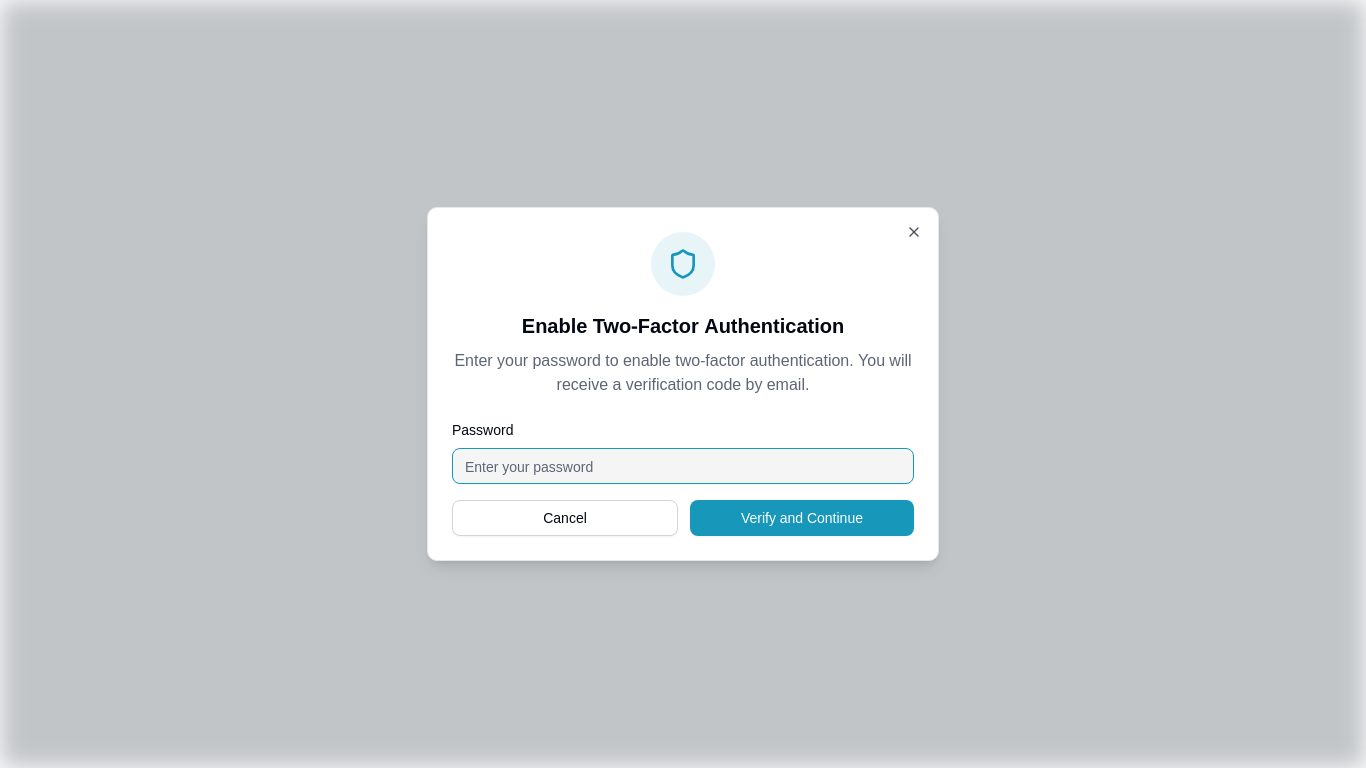
it: 2FA inside the profile form › keeps a failed password attempt in the modal and allows successful password + OTP retry
Type "wrong-password" into the password field with placeholder "Enter your password".
click(683, 466); type("wrong-password")  # box [452, 448, 914, 484]
Click the button "Verify and Continue".
click(802, 518)  # box [690, 500, 914, 536]
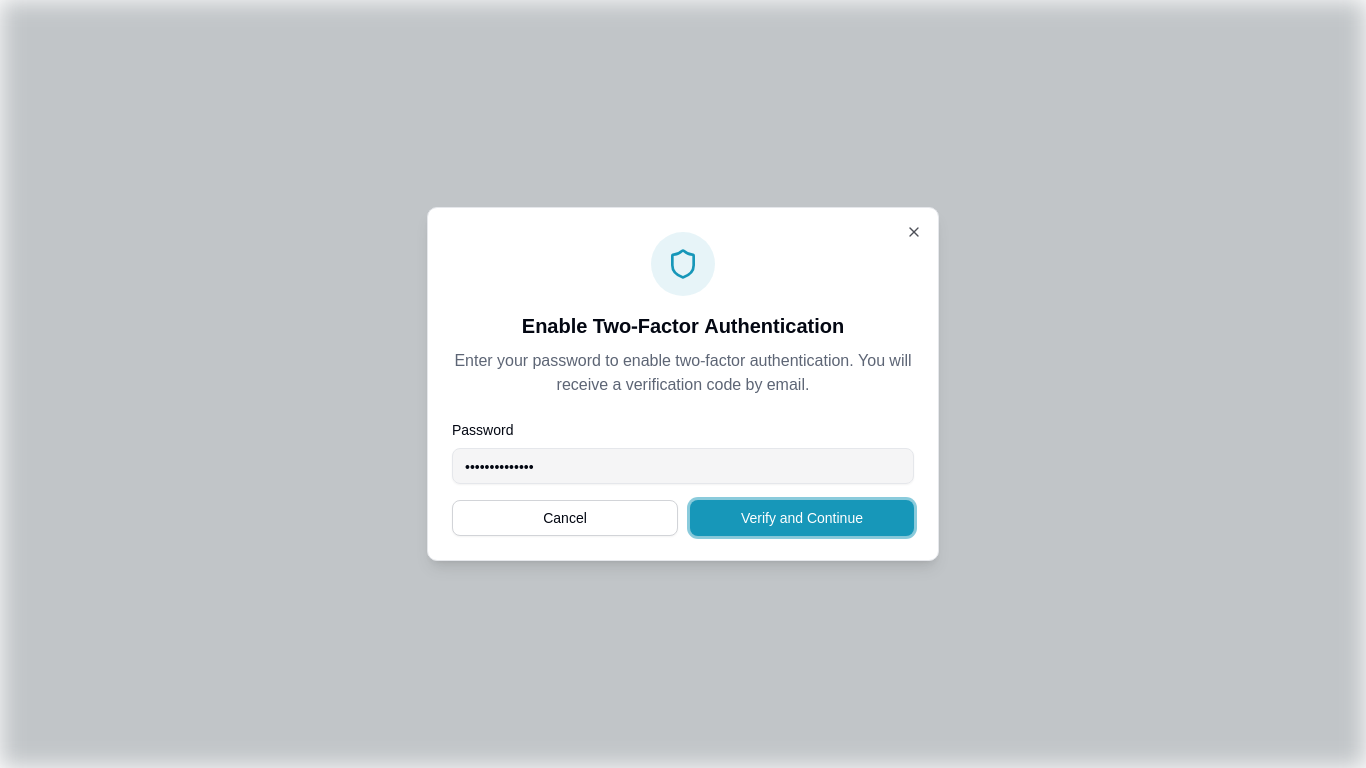
Clear the password field with placeholder "Enter your password" at (683, 466), box [452, 448, 914, 484]
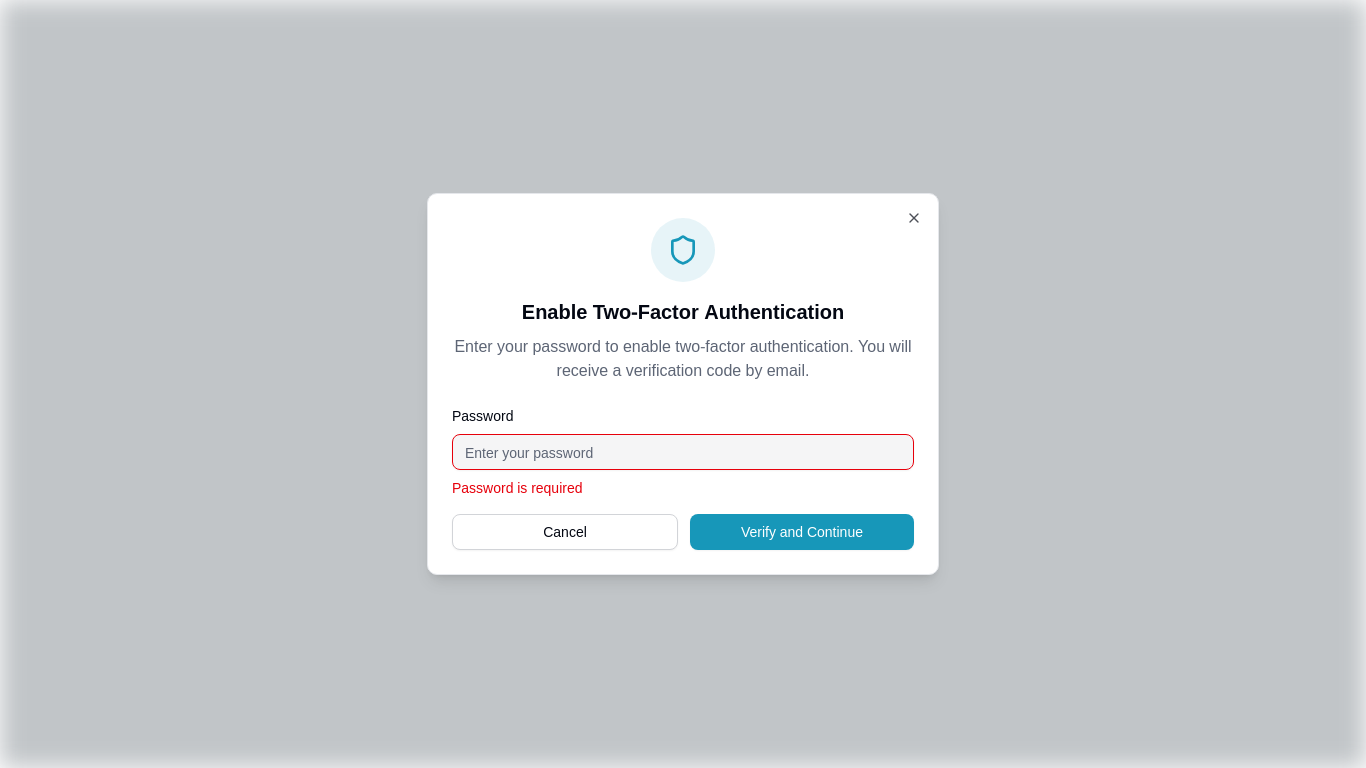
Type "correct-password" into the password field with placeholder "Enter your password".
click(683, 452); type("correct-password")  # box [452, 434, 914, 470]
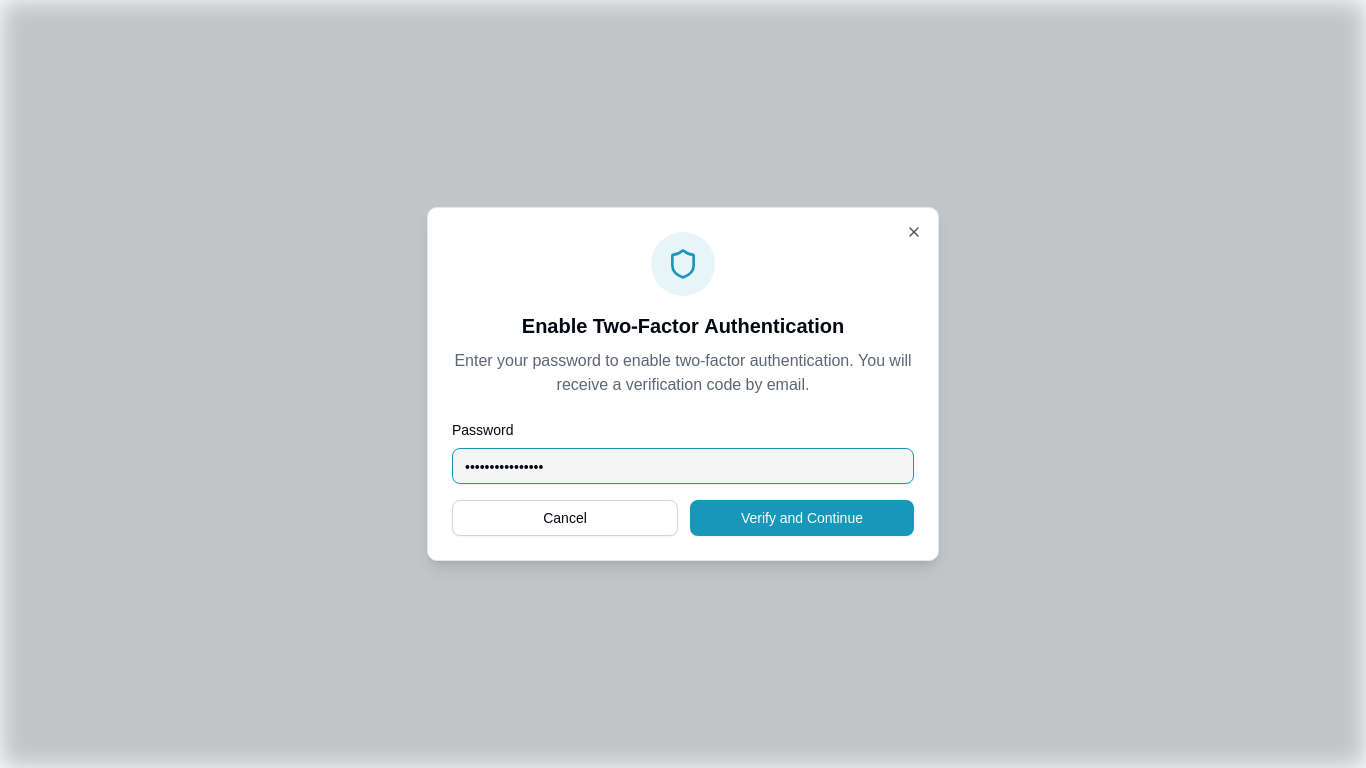
Click the button "Verify and Continue".
click(802, 518)  # box [690, 500, 914, 536]
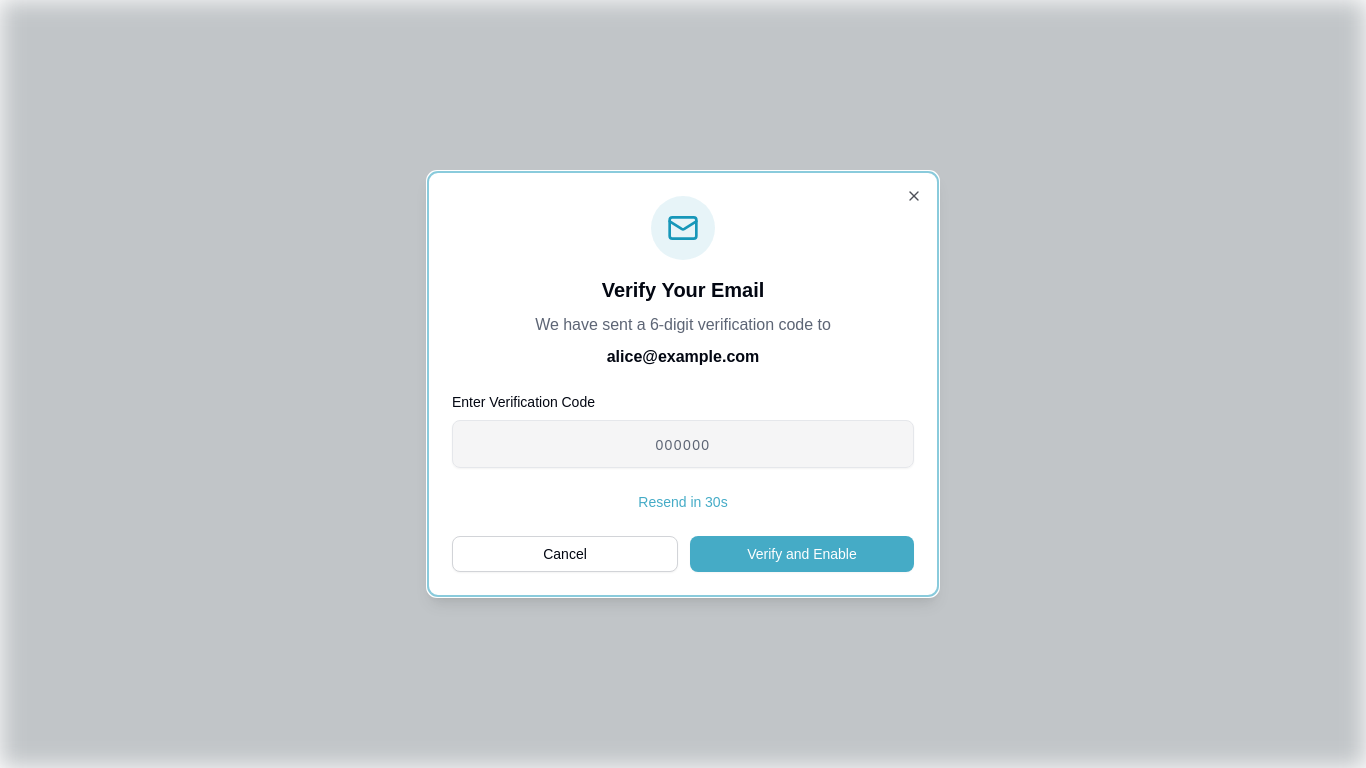
Type "123456" into the field with placeholder "000000".
click(683, 444); type("123456")  # box [452, 420, 914, 468]
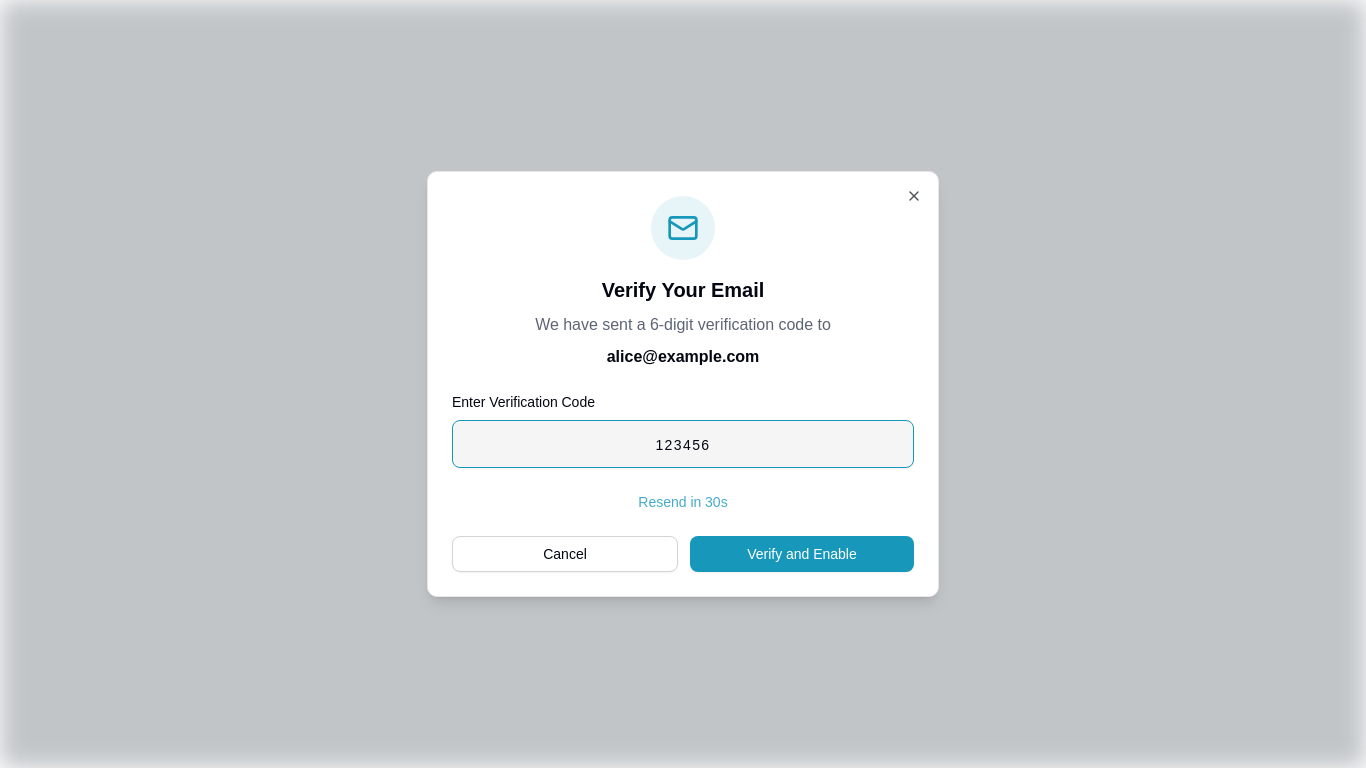
Click the button "Verify and Enable".
click(802, 554)  # box [690, 536, 914, 572]
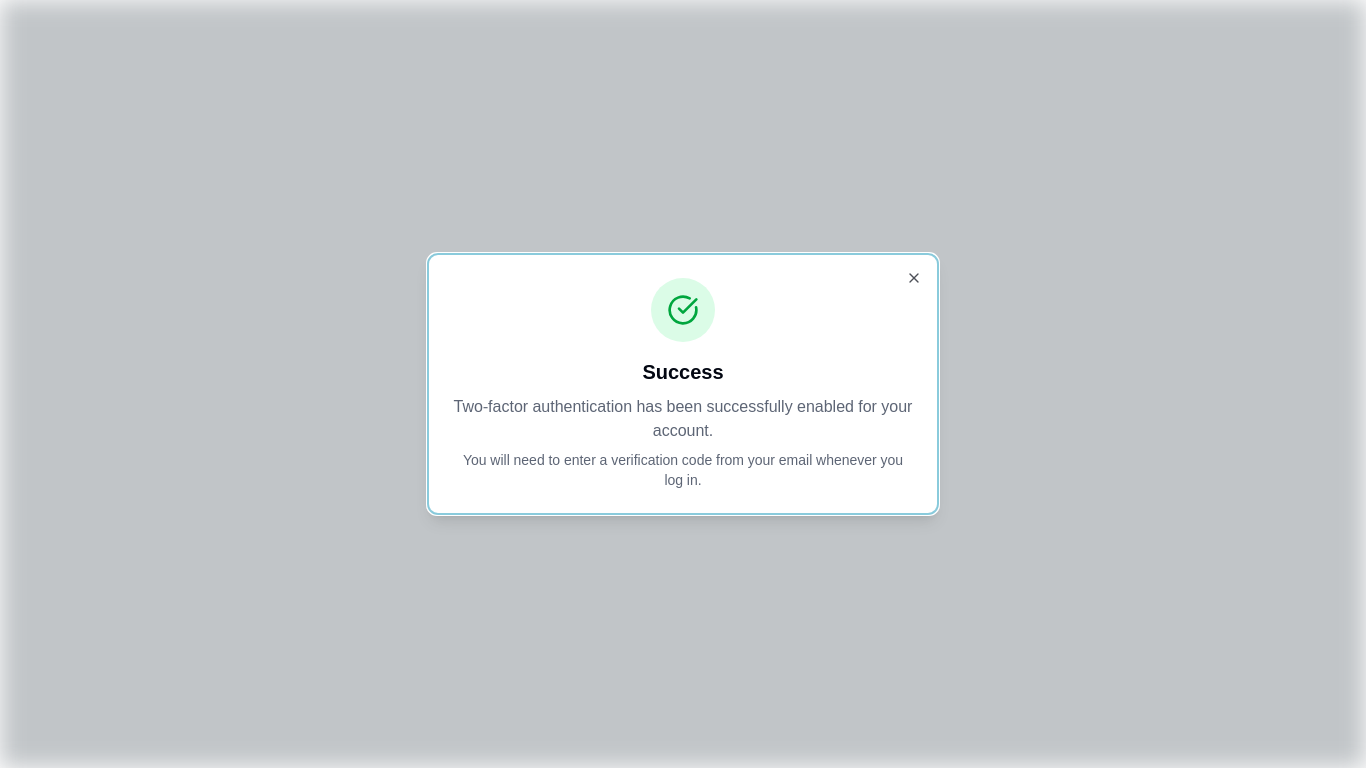
Check: the text "Two-factor authentication has been successfully enabled for your account." is shown, box [452, 394, 914, 442]
